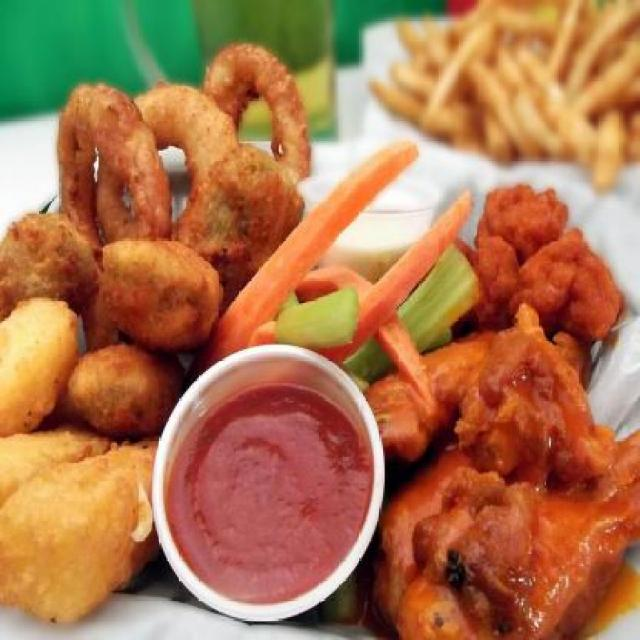chicken wings: (354, 176, 637, 636)
onion rings: (5, 41, 310, 361)
